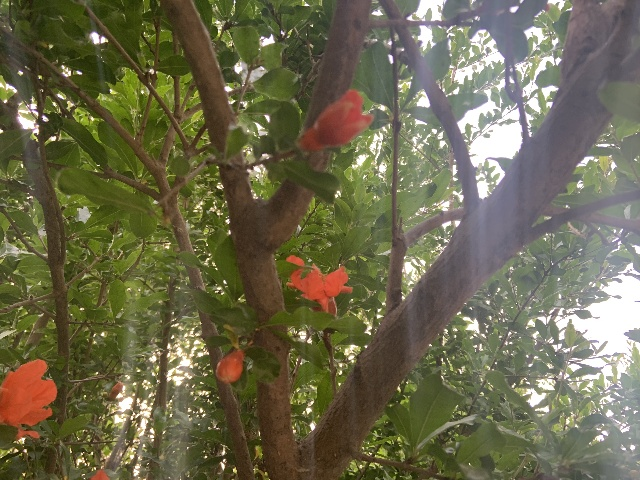bud: (216, 349, 243, 383), (109, 382, 123, 398)
flower: (298, 89, 373, 151), (0, 358, 56, 440), (285, 255, 353, 317)
